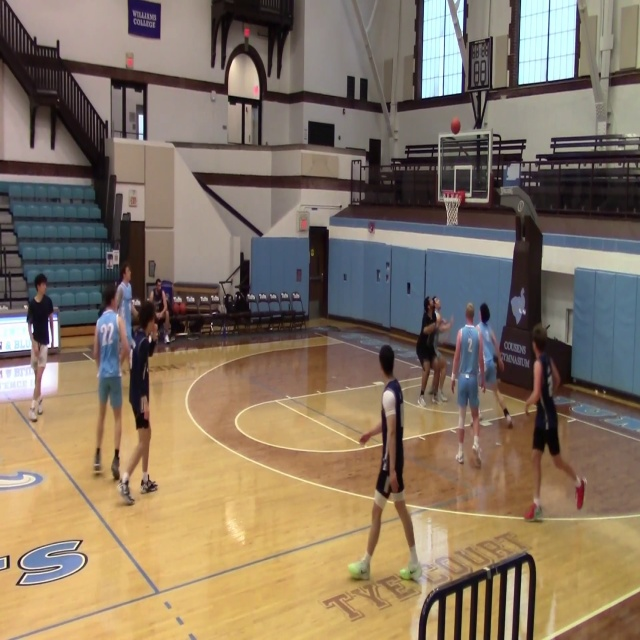Basketball: (450, 118, 460, 134), (399, 568, 411, 580)
